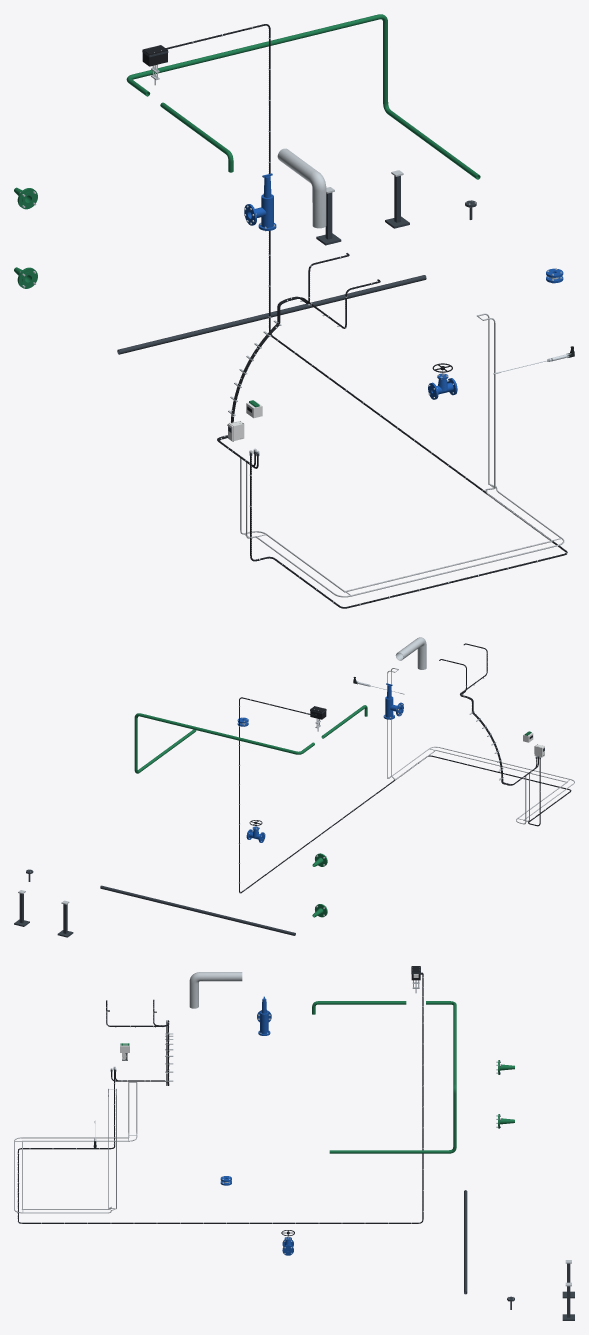
3 views of the same model, one above another, from view 1: azimuth 30°, elevation 25°; view 2: azimuth 150°, elevation 25°; view 3: azimuth 270°, elevation 25° (orthographic). The views are drawn at different scales.
Visible parts, largest first — view 1: cables / zinc, to_direct / green, mod_direct_drive_cable / black, bottom_discharge / dark, steam_rise / steel, trap_support / dark, safety_1 / blue, eco_inlet_adapter / green, wiring_lp200 / black; view 2: to_direct / green, mod_direct_drive_cable / black, cables / zinc, bottom_discharge / dark, steam_rise / steel, trap_support / dark, safety_1 / blue; view 3: mod_direct_drive_cable / black, cables / zinc, to_direct / green, steam_rise / steel.
Boxes of the visible parts, box(x1,y1,x2,y2) form: cables / zinc: box(240, 313, 564, 597); to_direct / green: box(126, 14, 480, 179); mod_direct_drive_cable / black: box(165, 24, 567, 608); bottom_discharge / dark: box(117, 275, 426, 354); steam_rise / steel: box(277, 148, 326, 228); trap_support / dark: box(316, 175, 409, 245); safety_1 / blue: box(244, 173, 276, 230); eco_inlet_adapter / green: box(14, 187, 37, 288); wiring_lp200 / black: box(218, 279, 380, 468); to_direct / green: box(134, 713, 314, 773); mod_direct_drive_cable / black: box(239, 697, 571, 893); cables / zinc: box(387, 668, 574, 824); bottom_discharge / dark: box(100, 885, 295, 935); steam_rise / steel: box(395, 637, 426, 669); trap_support / dark: box(14, 893, 73, 937); safety_1 / blue: box(383, 683, 403, 719); mod_direct_drive_cable / black: box(17, 973, 423, 1223); cables / zinc: box(14, 1082, 137, 1213); to_direct / green: box(329, 1001, 456, 1153); steam_rise / steel: box(189, 972, 242, 1008).
Bounding box in the file's own units: 5.03 × 3.11 × 6.8.
